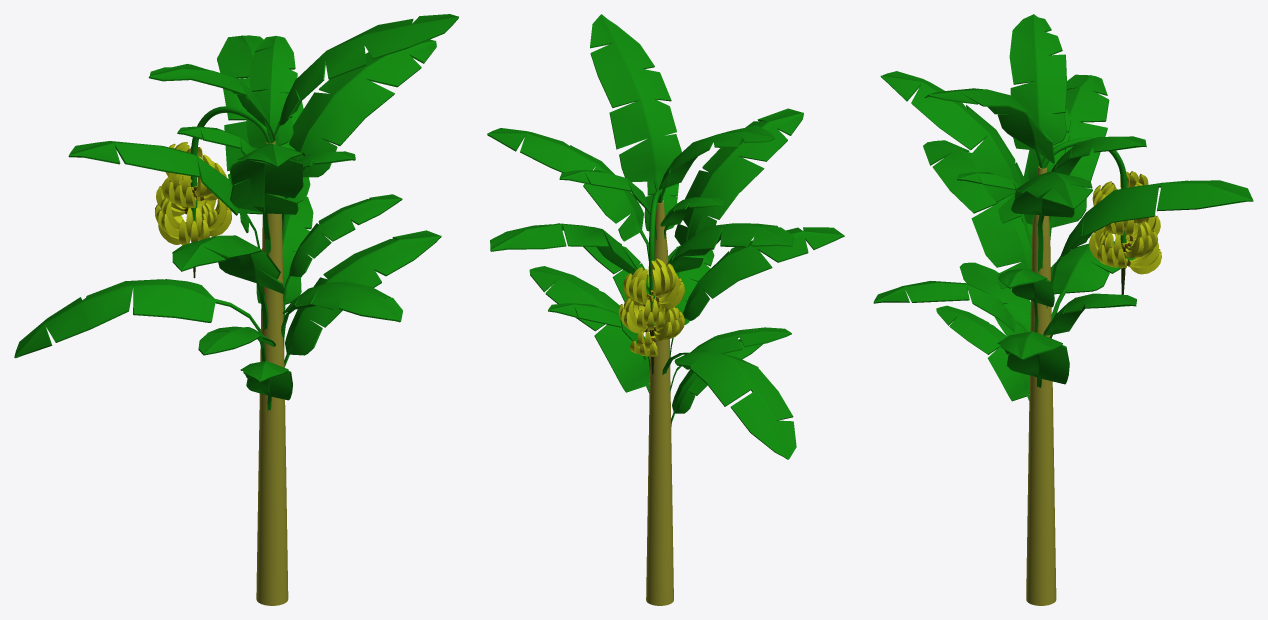
Rendered from BananaTreeBanana.fbx.
The picture shows the model from 3 angles, left to right: view 1: azimuth 30°, elevation 25°; view 2: azimuth 150°, elevation 25°; view 3: azimuth 270°, elevation 25°; orthographic projection. The views are drawn at different scales.
Visible parts, largest first — view 1: Leaves, Trunk, Banana, Branch; view 2: Leaves, Trunk, Banana, Branch; view 3: Leaves, Trunk, Banana, Branch.
Boxes of the visible parts, x1,y1,x2,y2 form: Leaves: [14, 14, 458, 410]; Trunk: [256, 141, 288, 605]; Banana: [155, 142, 231, 245]; Branch: [190, 106, 270, 278]; Leaves: [487, 14, 844, 459]; Trunk: [646, 200, 673, 605]; Banana: [618, 258, 684, 356]; Branch: [649, 190, 662, 374]; Leaves: [873, 14, 1253, 401]; Trunk: [1026, 166, 1056, 605]; Banana: [1089, 171, 1161, 274]; Branch: [1042, 137, 1127, 294].
Bounding box in the file's own units: 269 × 399 × 244.
